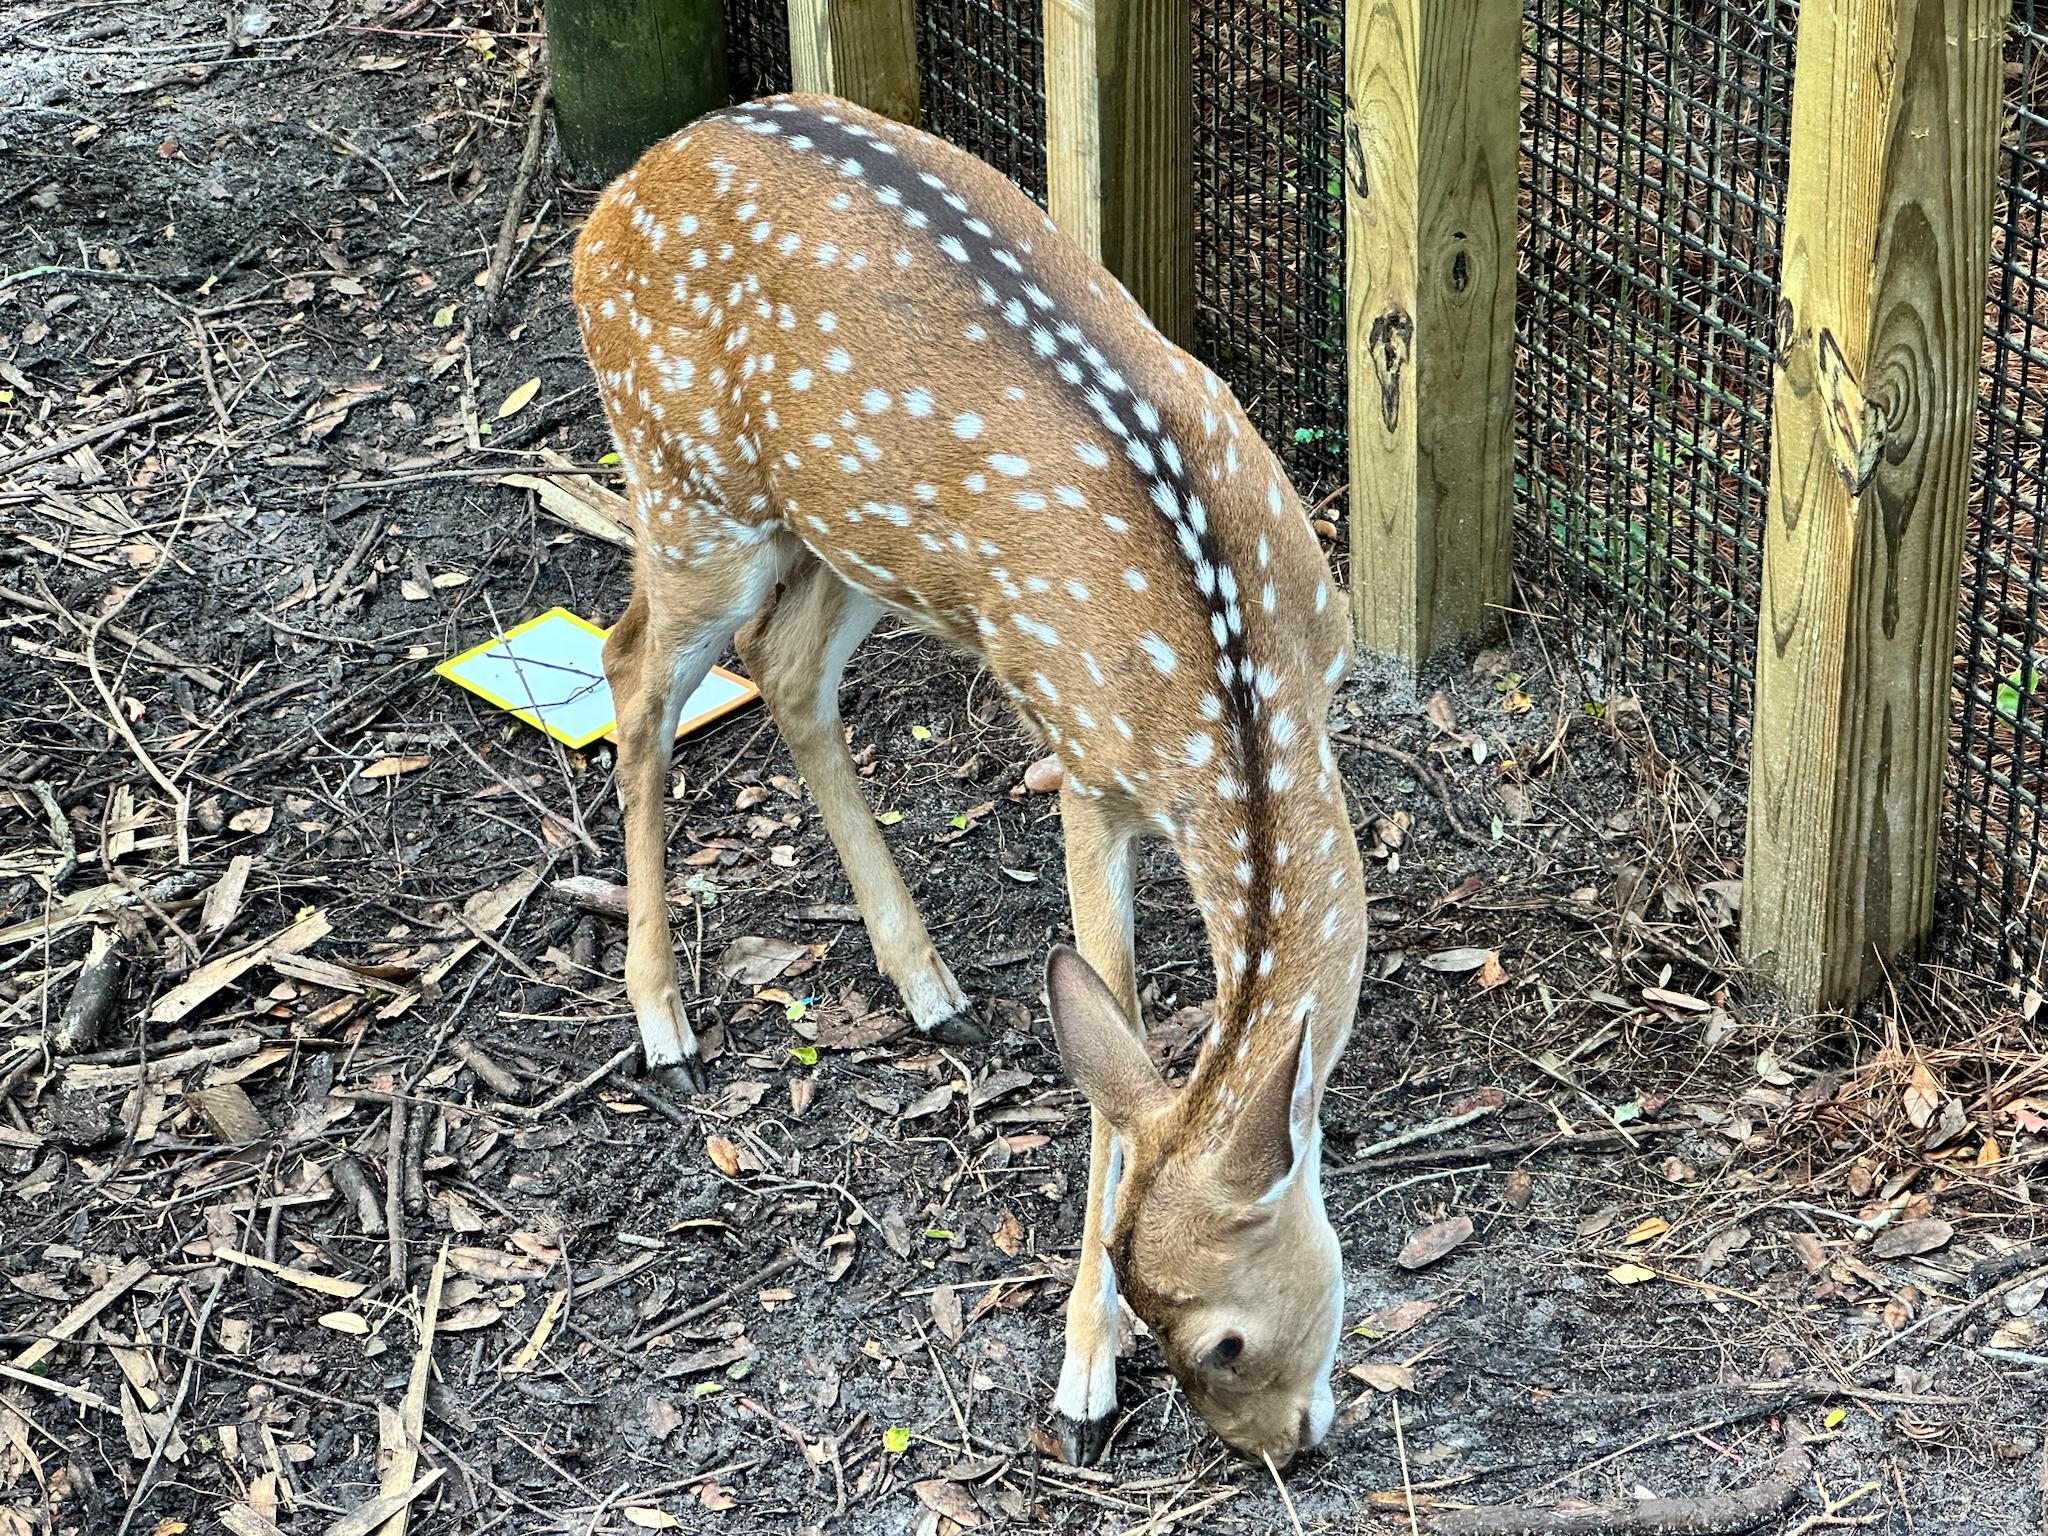Deer: (574, 94, 1364, 1463)
